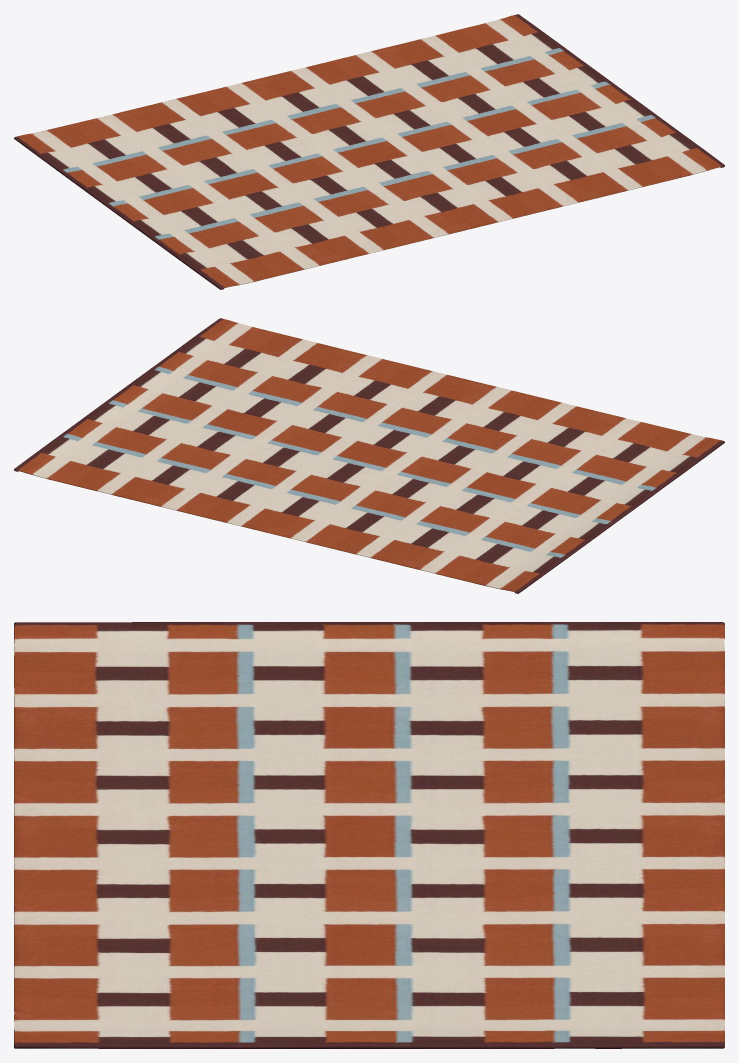
File: stockholm_2025_dywan_tkany_na_pasko_40593815.glb
3 renders of one model, top to bottom at view 1: azimuth 30°, elevation 25°; view 2: azimuth 150°, elevation 25°; view 3: azimuth 270°, elevation 25°, orthographic. The views are drawn at different scales.
Parts seen in each view (by area): view 1: stockholm_2025_dywan_tkany_na_pasko_40593815; view 2: stockholm_2025_dywan_tkany_na_pasko_40593815; view 3: stockholm_2025_dywan_tkany_na_pasko_40593815.
Part boxes in pixels (bbox=[...]): stockholm_2025_dywan_tkany_na_pasko_40593815: bbox=[14, 14, 724, 289]; stockholm_2025_dywan_tkany_na_pasko_40593815: bbox=[14, 318, 724, 593]; stockholm_2025_dywan_tkany_na_pasko_40593815: bbox=[14, 622, 724, 1048].
Size of the model in its own units: 2.4 by 0.00984 by 1.7.
Materials: 1 (1 with a texture image).
